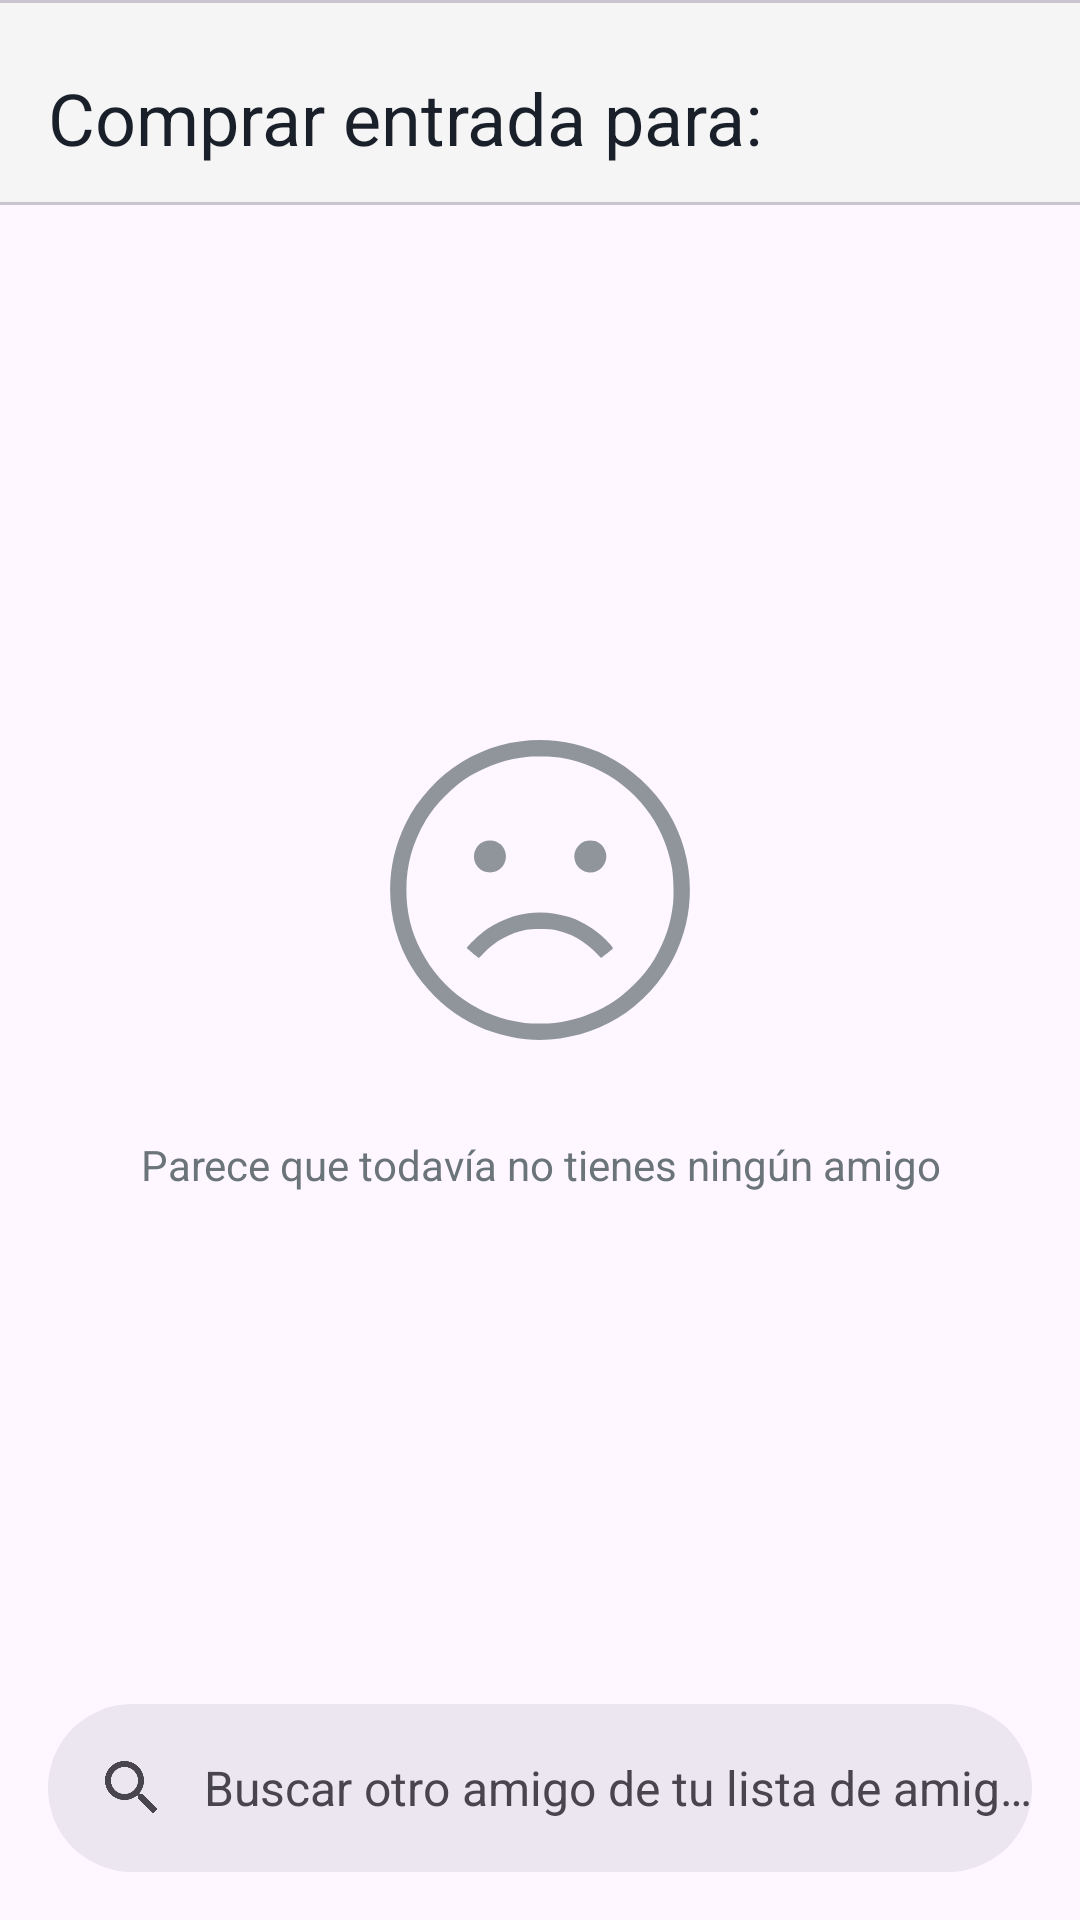

Where icons sit on this 1080*1920 app screen, as (x1, y1, x2, y2):
sad face: (390, 740, 690, 1040)
